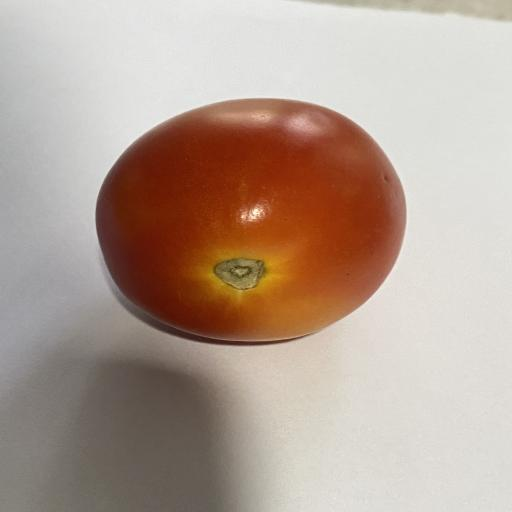ripe: (96, 98, 406, 342)
